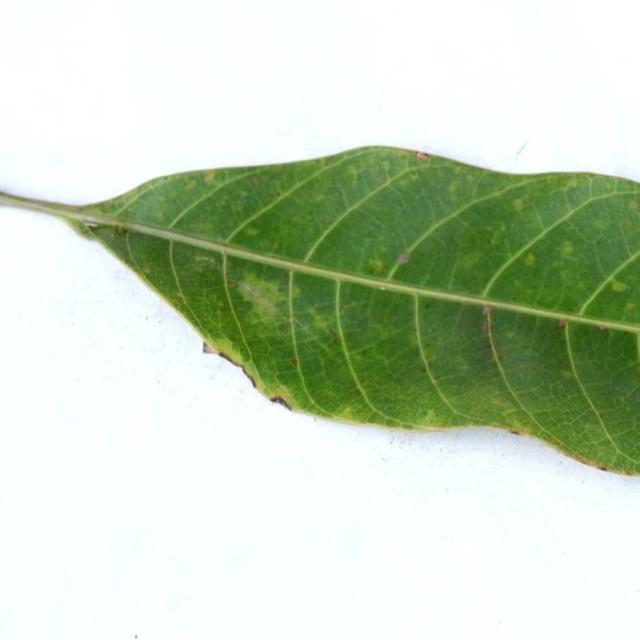Mango: (0, 147, 639, 474)
Powdery_Mildew: (582, 252, 639, 318), (232, 269, 294, 321), (352, 233, 417, 278), (605, 208, 640, 269), (300, 302, 342, 345), (325, 397, 388, 424), (357, 248, 394, 280), (455, 252, 486, 277), (194, 261, 221, 283), (356, 228, 379, 251), (194, 254, 217, 268), (420, 345, 439, 360), (421, 409, 438, 424), (112, 223, 129, 236), (341, 389, 361, 400), (559, 240, 574, 254), (202, 171, 218, 184), (289, 283, 302, 299), (489, 232, 501, 246), (524, 253, 536, 266), (565, 177, 578, 189), (244, 227, 259, 237), (184, 179, 197, 190), (232, 201, 244, 212), (447, 183, 458, 195), (504, 330, 517, 340), (249, 174, 260, 185), (346, 164, 358, 174), (513, 199, 523, 211), (561, 369, 574, 378), (381, 160, 391, 171), (381, 175, 391, 185), (628, 200, 637, 211), (513, 279, 522, 289), (482, 305, 490, 316), (226, 279, 236, 287), (358, 349, 367, 357), (485, 341, 493, 350), (482, 321, 488, 333), (322, 158, 329, 168), (142, 266, 150, 274), (409, 170, 417, 178), (423, 302, 430, 309), (420, 366, 427, 373), (290, 358, 297, 365), (354, 389, 362, 395), (162, 176, 170, 182), (497, 353, 503, 360), (487, 238, 493, 245)
